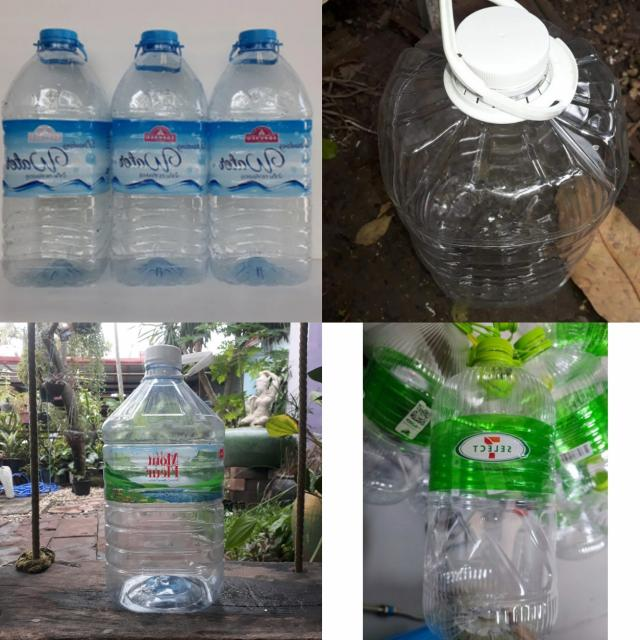plastik: (378, 0, 628, 307), (423, 331, 558, 640), (103, 346, 225, 612), (2, 29, 110, 286), (208, 29, 312, 286), (112, 30, 207, 285), (513, 324, 608, 558), (363, 323, 469, 504)
